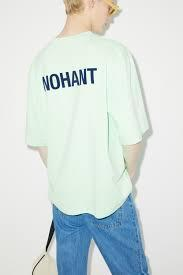Tshirt: (18, 29, 164, 219)
